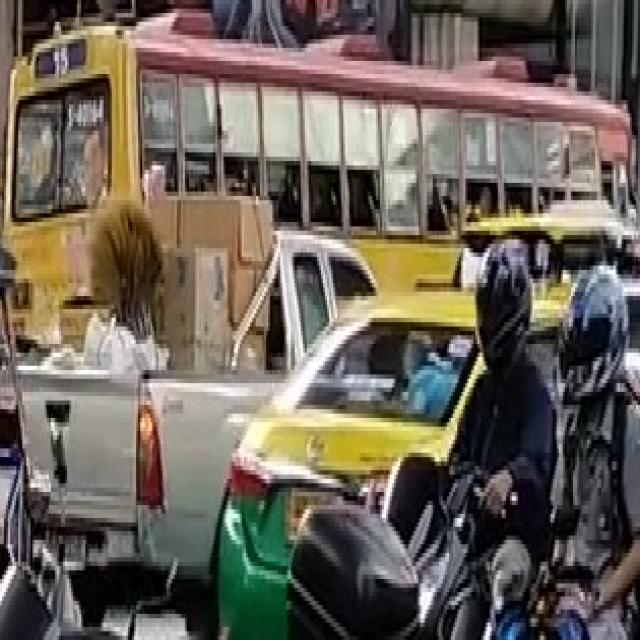helmet: (557, 261, 628, 401), (474, 235, 530, 366)
